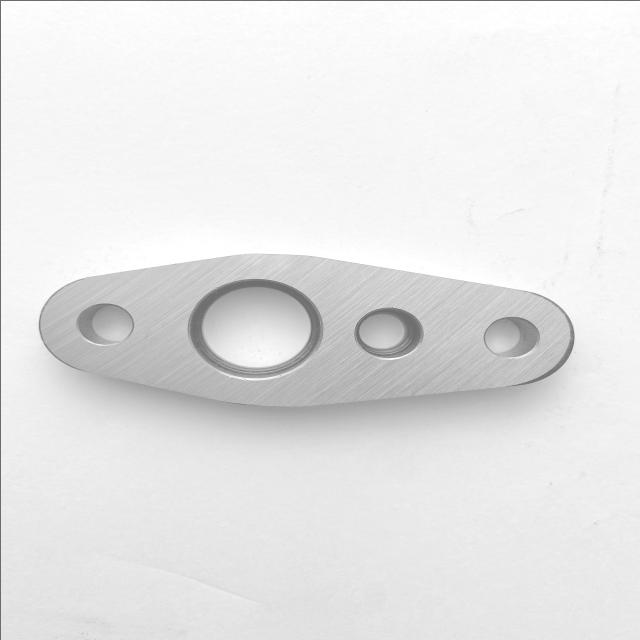chap: (210, 284, 219, 289), (444, 336, 450, 340)
